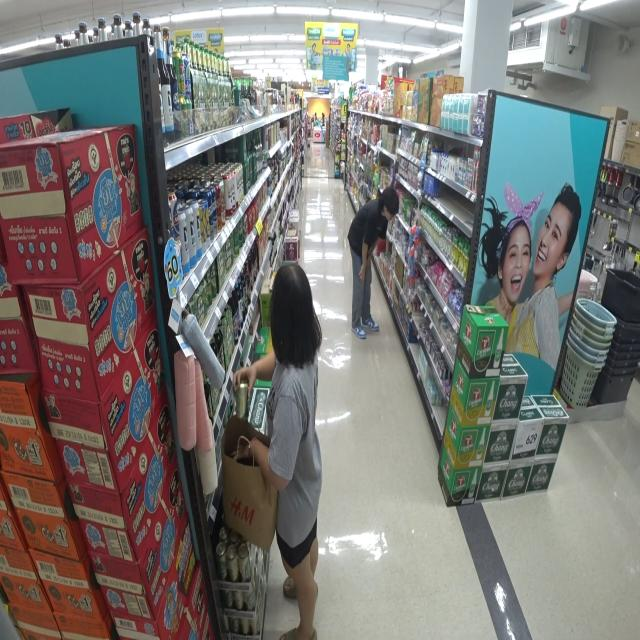shoplifting: (217, 259, 322, 640)
